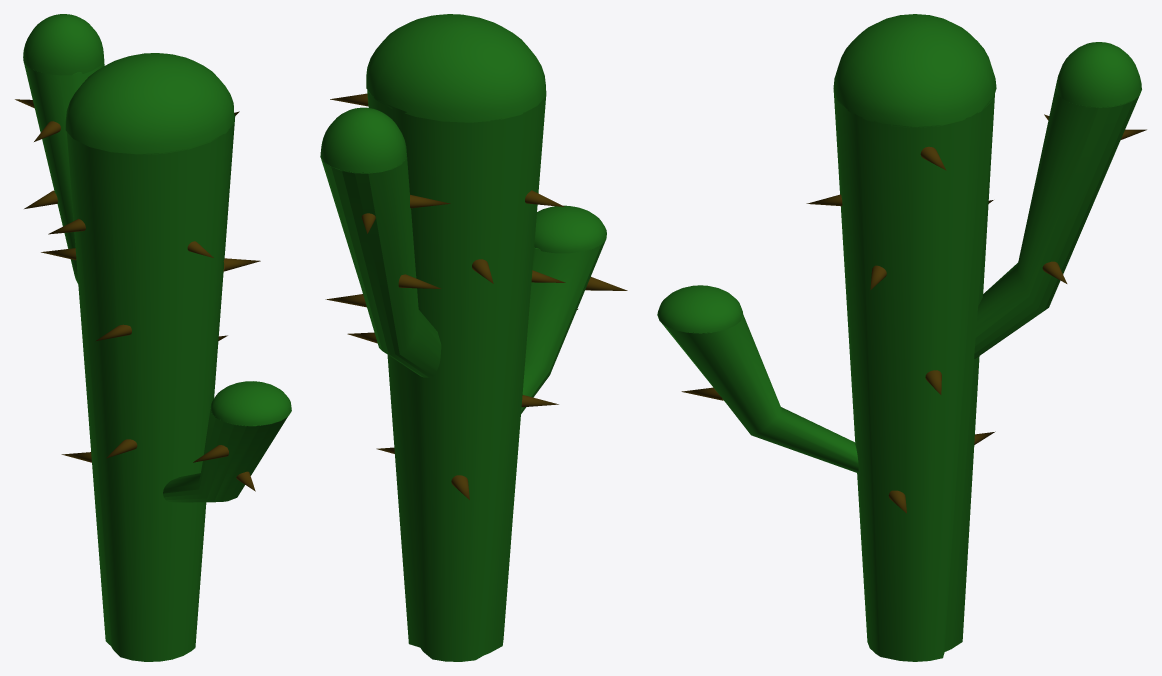
Rendered from Cactus.fbx.
The picture shows the model from 3 angles, left to right: view 1: azimuth 30°, elevation 25°; view 2: azimuth 150°, elevation 25°; view 3: azimuth 270°, elevation 25°; orthographic projection. The views are drawn at different scales.
Visible parts, largest first — view 1: polySurface5; view 2: polySurface5; view 3: polySurface5.
Part boxes in pixels (left/top/right/bottom): polySurface5: left=15, top=14, right=291, bottom=661; polySurface5: left=320, top=14, right=627, bottom=661; polySurface5: left=657, top=14, right=1146, bottom=661.
Size of the model in its own units: 3.64 by 9.74 by 7.02.
